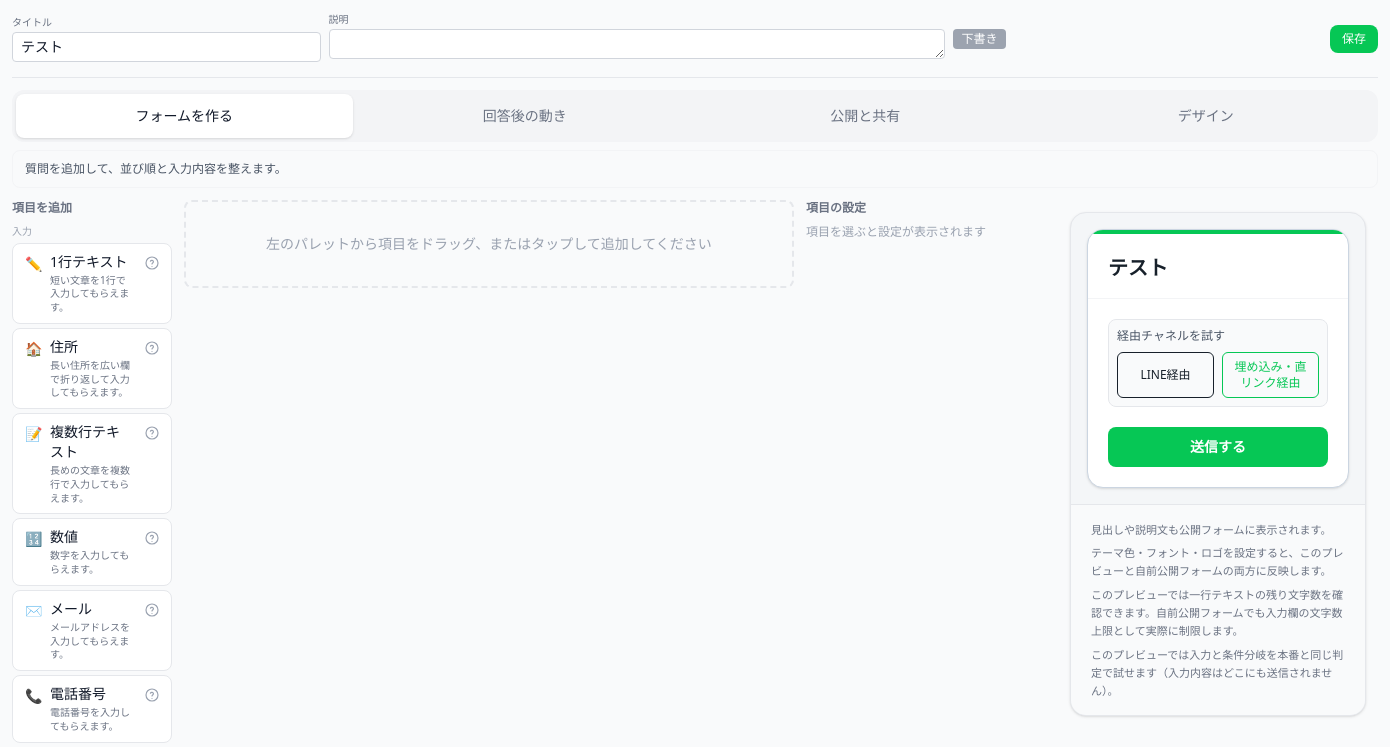
Test: FormBuilder — 配信方式 › keeps internal delivery when returning to Formaloo could lose saved content
Click the tab "公開と共有" at [865, 116], box [697,94,1034,138]
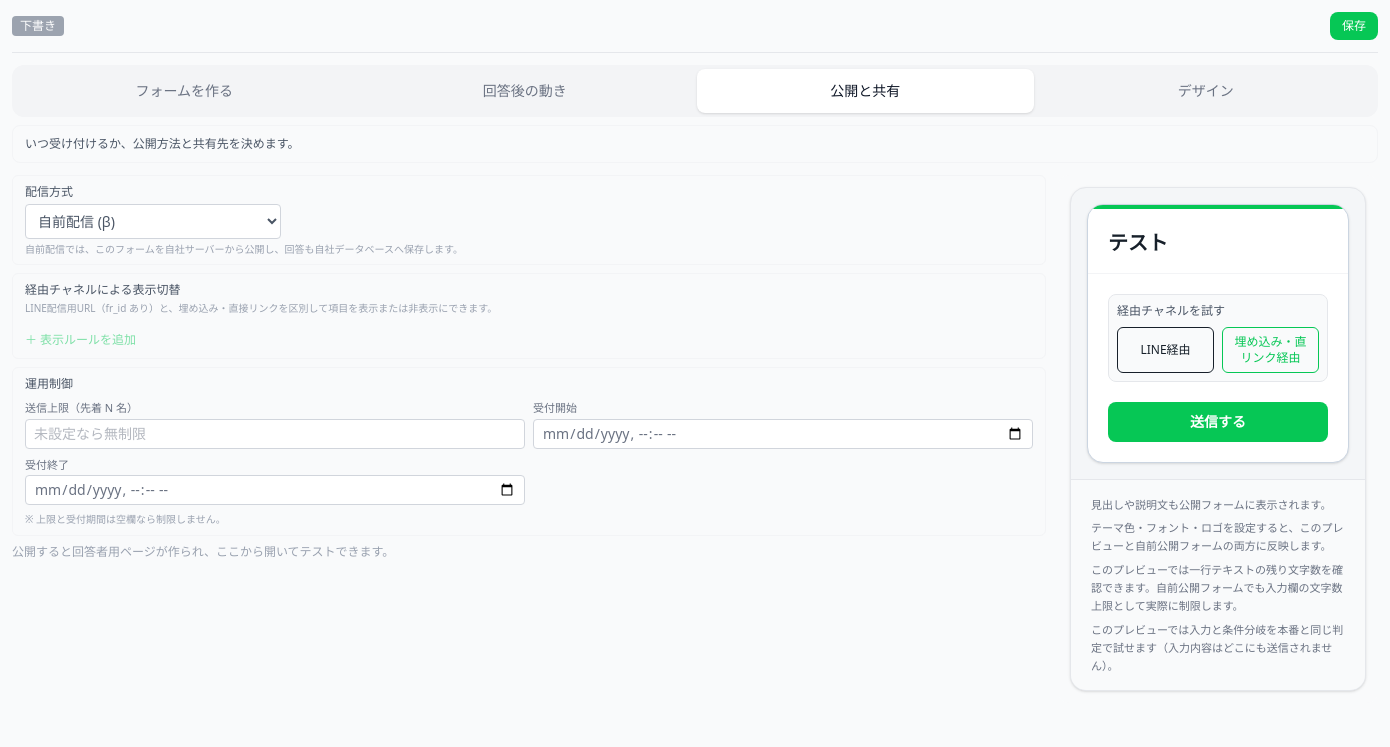
Select "Formaloo" in the dropdown labelled "配信方式" at [153, 221], box [25,204,281,238]
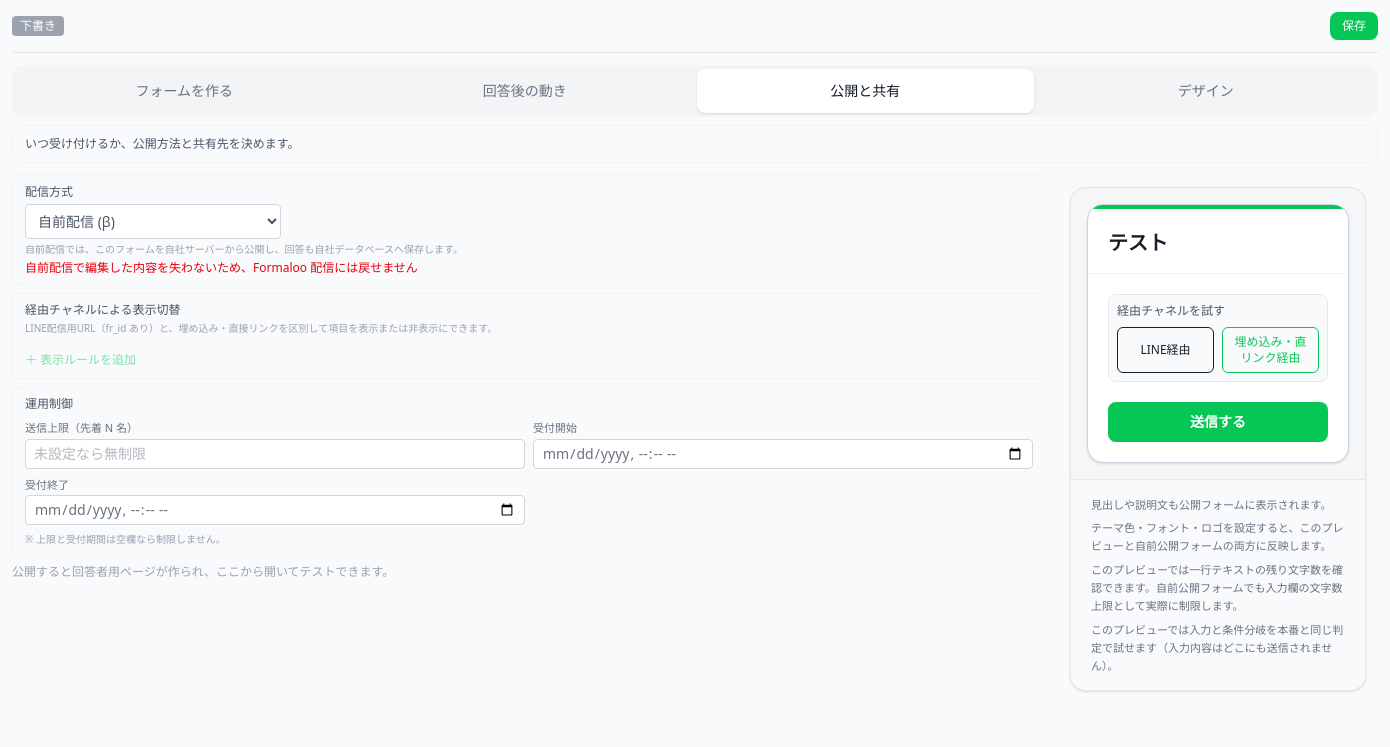
Expected: the message shows "内容を失わないため", [25,259,418,276]
